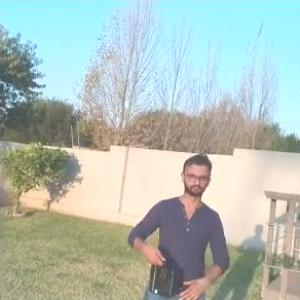follow: (122, 151, 233, 299)
